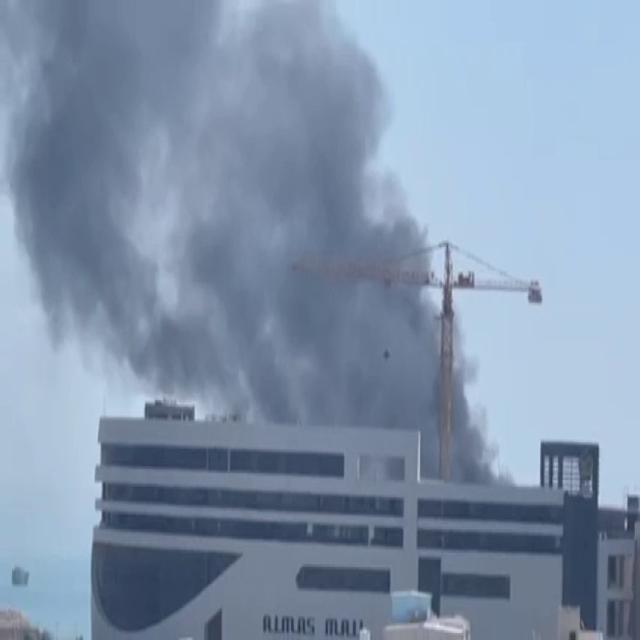smoke: (18, 6, 433, 408)
